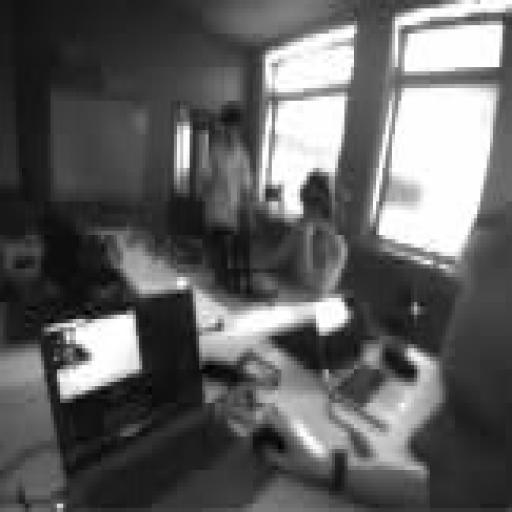human: (263, 206, 511, 507), (260, 168, 347, 297), (203, 101, 252, 289)
